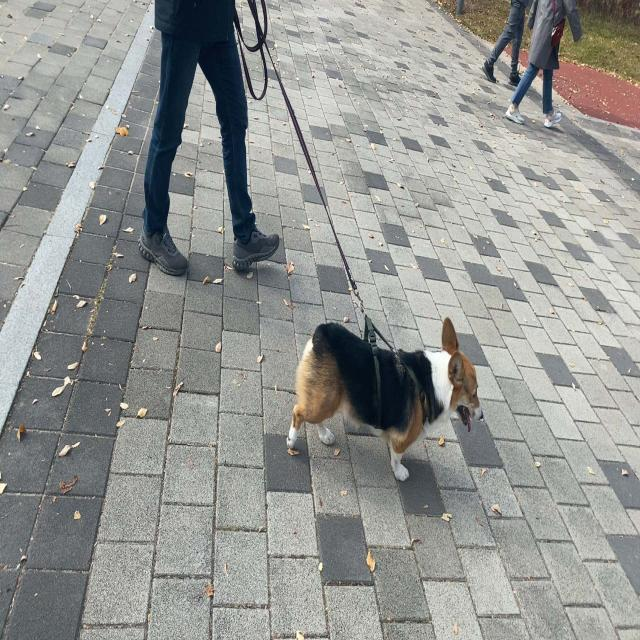Leashed_Dog: (217, 0, 483, 485)
